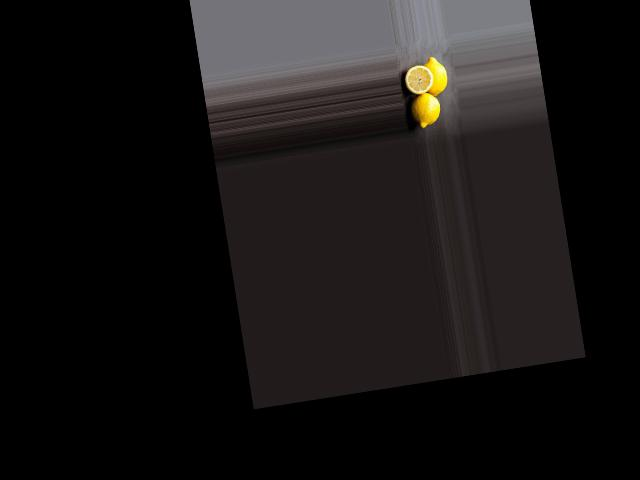lemon: (419, 52, 453, 98)
